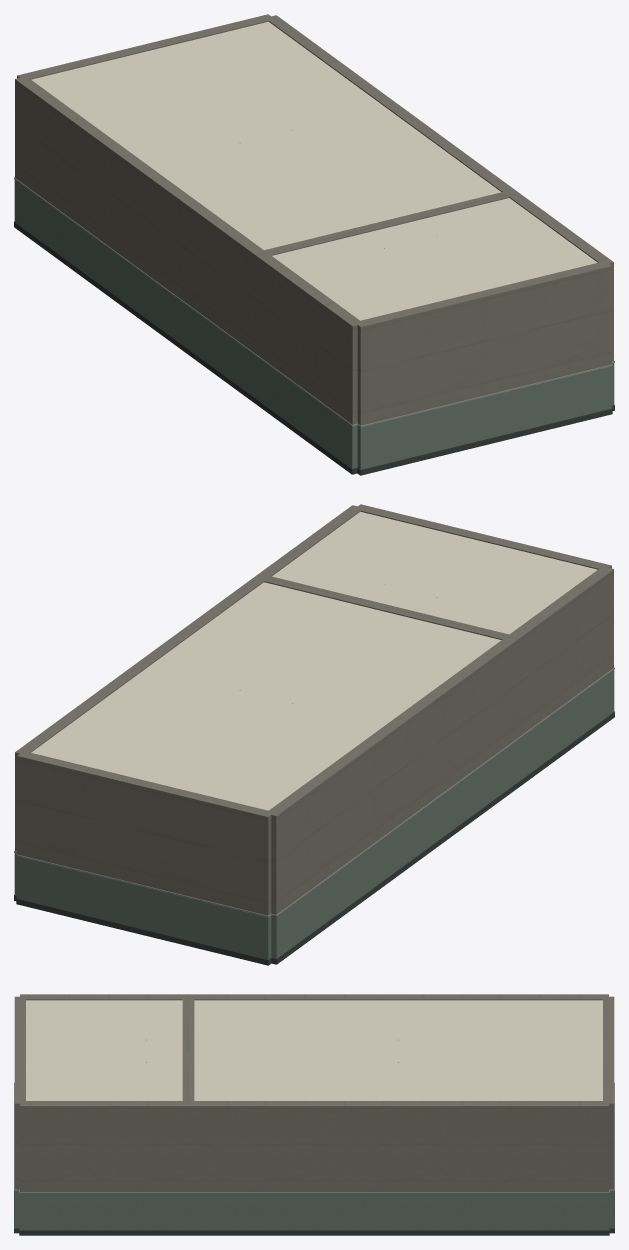
Rendered from foundation_pump_room.glb.
3 views of the same model, one above another, from view 1: azimuth 30°, elevation 25°; view 2: azimuth 150°, elevation 25°; view 3: azimuth 270°, elevation 25° (orthographic). The views are drawn at different scales.
Visible parts, largest first — view 1: foundation_pump_room / power_instrument_ivory, foundation_pump_room / power_plaster, foundation_pump_room / power_sage_enamel, foundation_pump_room / power_blackened_steel, foundation_pump_room / power_galvanized; view 2: foundation_pump_room / power_instrument_ivory, foundation_pump_room / power_plaster, foundation_pump_room / power_sage_enamel, foundation_pump_room / power_blackened_steel, foundation_pump_room / power_galvanized; view 3: foundation_pump_room / power_plaster, foundation_pump_room / power_instrument_ivory, foundation_pump_room / power_sage_enamel, foundation_pump_room / power_blackened_steel, foundation_pump_room / power_galvanized.
Boxes of the visible parts, x1,y1,x2,y2 form: foundation_pump_room / power_instrument_ivory: (31, 21, 597, 320); foundation_pump_room / power_plaster: (15, 14, 613, 425); foundation_pump_room / power_sage_enamel: (14, 180, 614, 469); foundation_pump_room / power_blackened_steel: (14, 221, 614, 475); foundation_pump_room / power_galvanized: (14, 129, 614, 427); foundation_pump_room / power_instrument_ivory: (31, 511, 597, 810); foundation_pump_room / power_plaster: (15, 504, 613, 915); foundation_pump_room / power_sage_enamel: (14, 670, 614, 959); foundation_pump_room / power_blackened_steel: (14, 711, 614, 965); foundation_pump_room / power_galvanized: (14, 584, 614, 917); foundation_pump_room / power_plaster: (14, 994, 614, 1191); foundation_pump_room / power_instrument_ivory: (26, 1000, 602, 1100); foundation_pump_room / power_sage_enamel: (14, 1191, 614, 1230); foundation_pump_room / power_blackened_steel: (14, 1191, 614, 1235); foundation_pump_room / power_galvanized: (14, 1039, 614, 1193).
Bounding box in the file's own units: 6.3 × 3.41 × 14.3.
7 materials, 4 textured.
